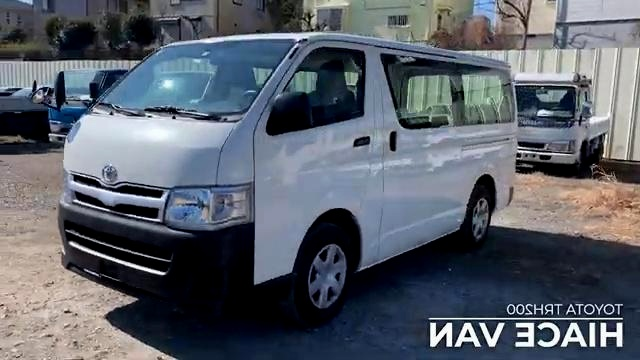van: (56, 31, 522, 318)
